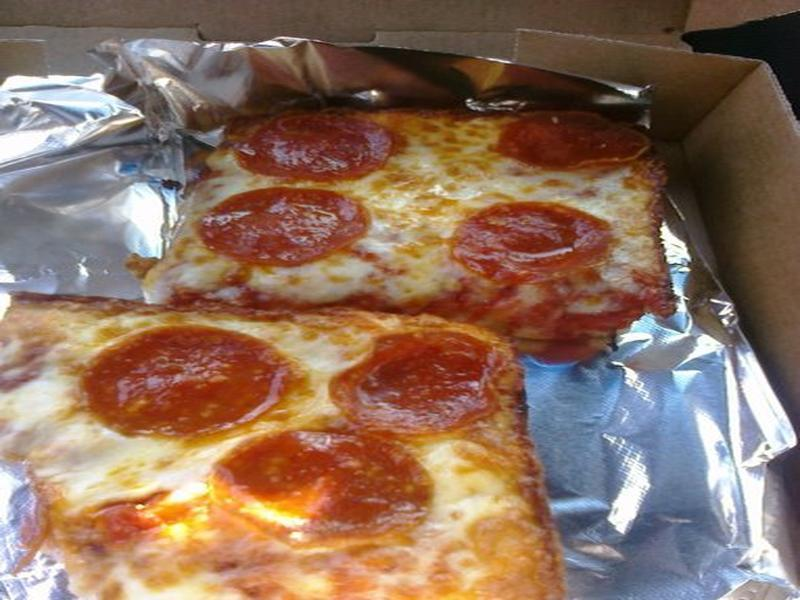pizza: (5, 8, 781, 600)
